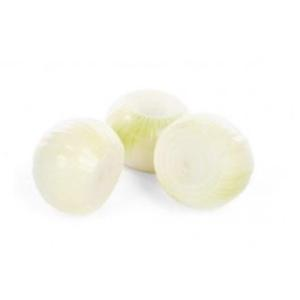onion: (155, 108, 255, 210), (33, 114, 125, 220), (106, 88, 192, 174)
